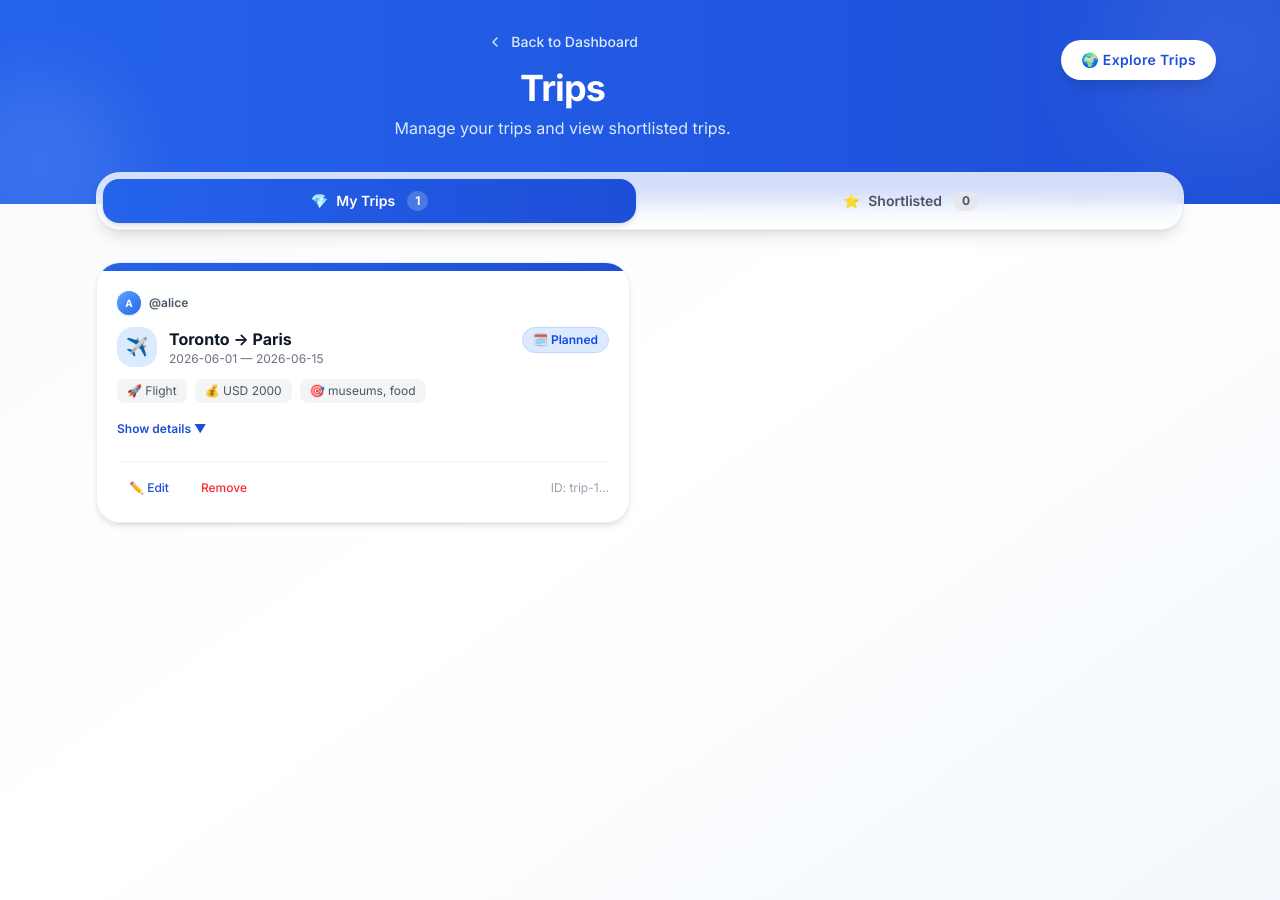
Test case: Trips › opens edit form when Edit button is clicked
expect the heading "Toronto → Paris" is shown: met, box x1=169 y1=329 x2=292 y2=349
Click the button "✏️ Edit" at (149, 488), box x1=117 y1=474 x2=181 y2=502
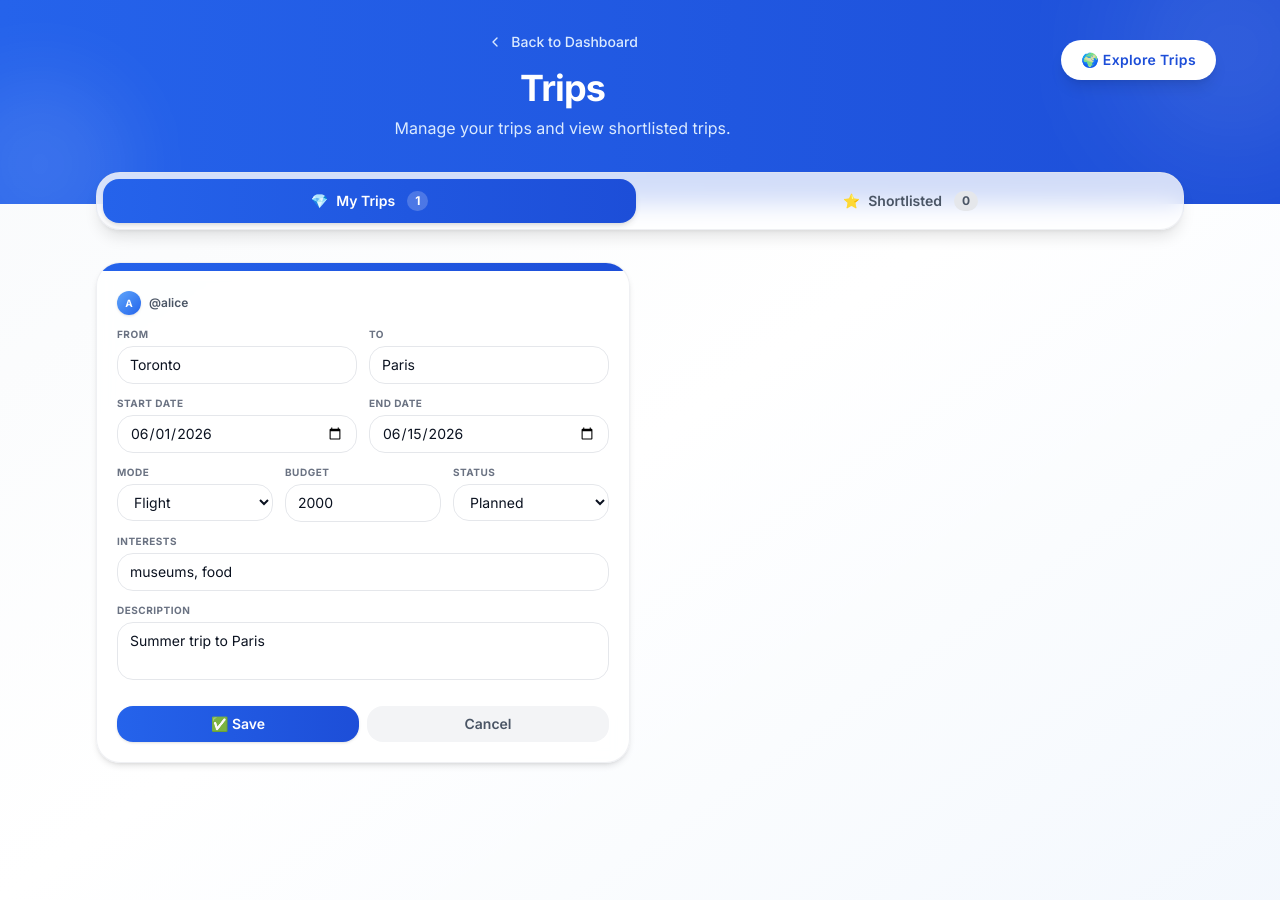
expect the field showing "Toronto" below "From" is shown: met, box x1=117 y1=346 x2=357 y2=384
expect the 2nd field showing "Paris" is shown: met, box x1=369 y1=346 x2=609 y2=384
expect the date field showing "2026-06-01" below "Start Date" is shown: met, box x1=117 y1=415 x2=357 y2=453
